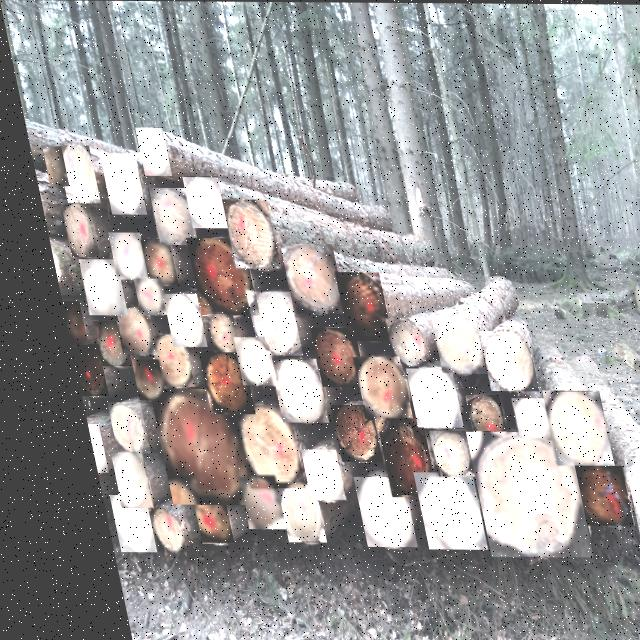wood-log: (461, 432, 561, 556), (139, 389, 230, 504), (221, 406, 281, 488), (399, 472, 460, 549), (181, 238, 242, 314), (532, 391, 590, 465), (364, 418, 412, 497), (274, 244, 328, 313), (338, 477, 390, 546), (217, 201, 266, 268), (329, 273, 375, 341), (259, 360, 308, 422), (343, 357, 391, 420), (187, 351, 234, 414), (470, 331, 518, 391), (561, 465, 608, 525), (239, 293, 284, 355), (394, 369, 442, 426), (422, 315, 469, 372), (300, 328, 346, 386), (609, 455, 640, 535), (317, 405, 361, 461), (145, 188, 185, 245), (261, 484, 301, 540), (98, 154, 135, 214), (91, 496, 131, 551), (73, 260, 111, 315), (54, 146, 89, 201), (154, 294, 190, 347), (224, 478, 261, 529), (286, 450, 323, 499), (139, 336, 174, 387), (180, 177, 215, 228), (96, 454, 128, 508), (376, 318, 413, 364), (94, 404, 128, 453), (415, 431, 452, 476), (223, 338, 258, 385), (100, 233, 135, 279), (58, 345, 89, 396), (55, 205, 85, 257), (174, 499, 209, 542), (453, 396, 488, 438), (133, 240, 165, 285), (498, 398, 533, 438), (107, 309, 138, 354), (133, 128, 161, 176), (131, 508, 161, 552), (86, 322, 115, 366), (120, 360, 148, 400), (196, 314, 223, 352), (124, 279, 152, 315), (53, 302, 74, 345), (37, 147, 59, 186), (71, 425, 86, 472)
